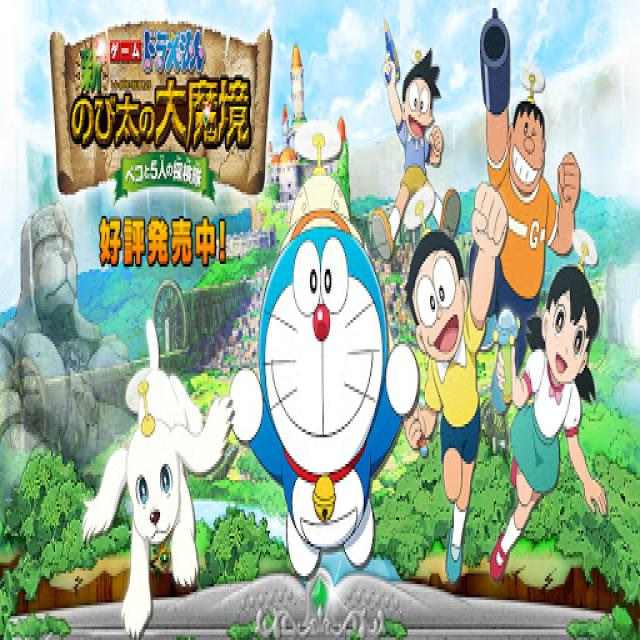doraemon: (247, 200, 395, 491)
jaian: (502, 78, 556, 214)
nobita: (398, 221, 478, 392)
shizuka: (524, 243, 601, 413)
suneo: (394, 43, 444, 157)
